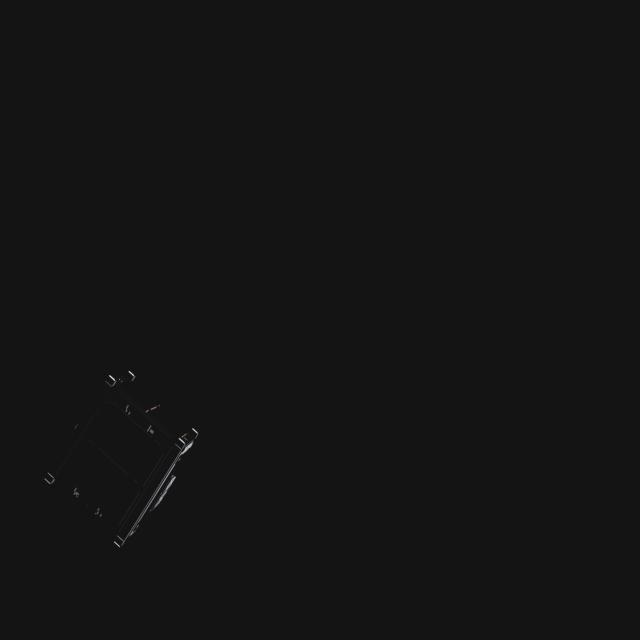satellite: (24, 356, 200, 557)
